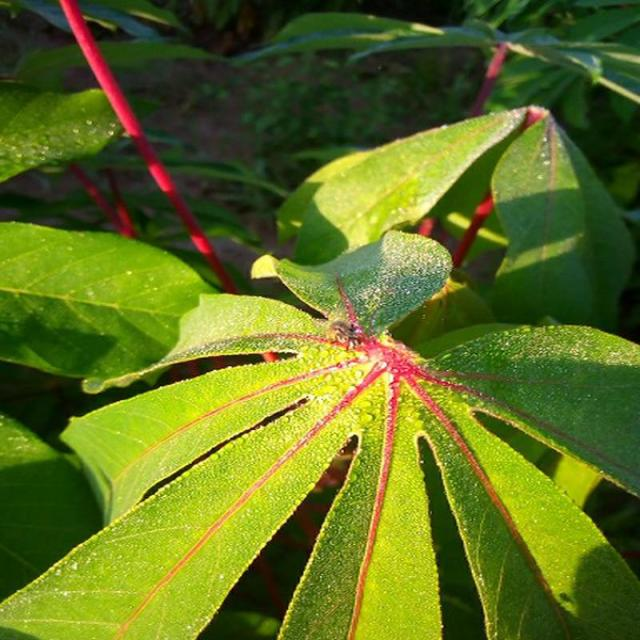cassava leaf: (1, 226, 638, 638), (0, 218, 220, 392)
